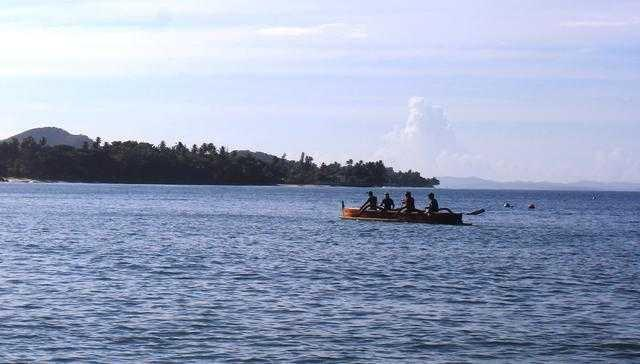kayak: (340, 204, 472, 224), (374, 194, 441, 219), (381, 168, 441, 187)
